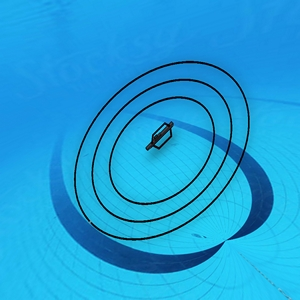circle: (71, 58, 250, 247)
submarine: (145, 118, 176, 149)
